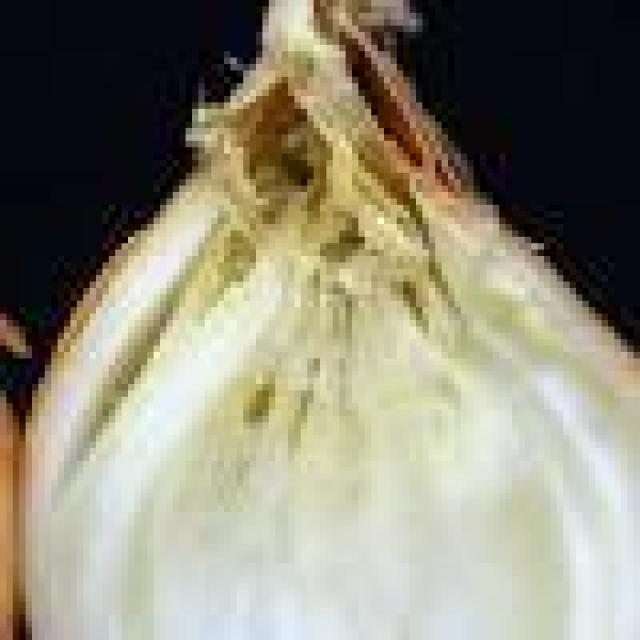Onion: (19, 6, 640, 640)
